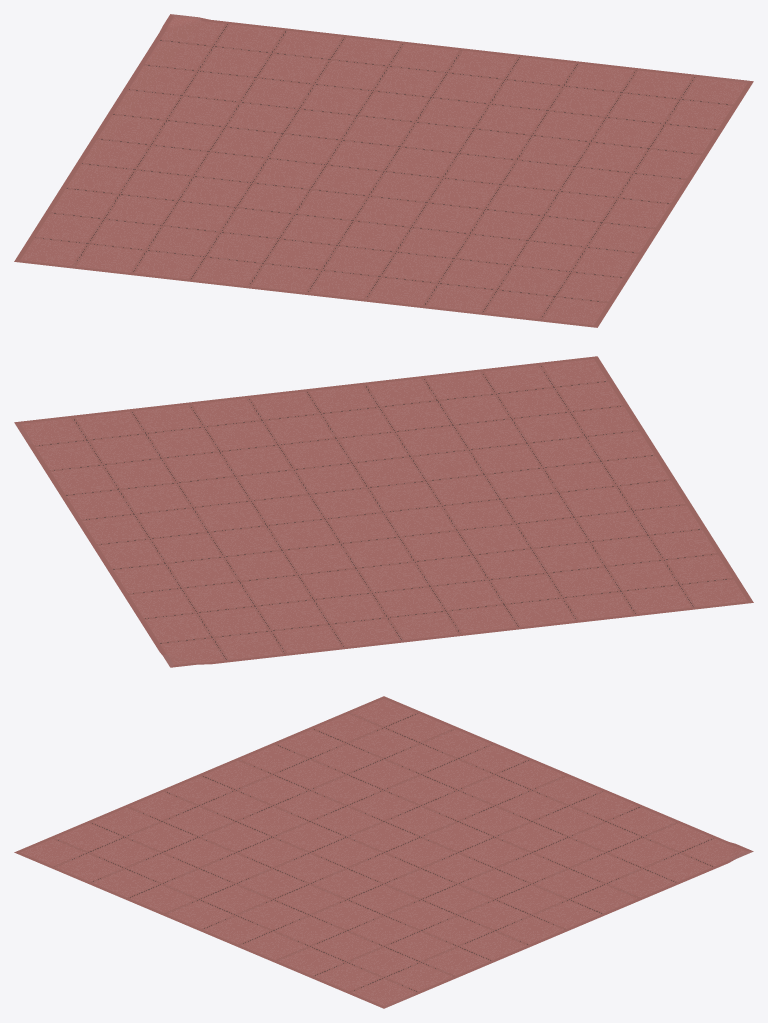
The model's file is kd_stage_135b75_4_47.glb.
The picture shows the model from 3 angles, top to bottom: view 1: azimuth 30°, elevation 25°; view 2: azimuth 150°, elevation 25°; view 3: azimuth 270°, elevation 25°; orthographic projection. The views are drawn at different scales.
Visible parts, largest first — view 1: kd_stage_135b75_4_47; view 2: kd_stage_135b75_4_47; view 3: kd_stage_135b75_4_47.
Boxes of the visible parts, <box> form: kd_stage_135b75_4_47: <box>14,14,753,327</box>; kd_stage_135b75_4_47: <box>14,356,753,667</box>; kd_stage_135b75_4_47: <box>14,696,753,1008</box>.
Size of the model in its own units: 3.21 by 0.0049 by 3.21.
1 material, 1 textured.
